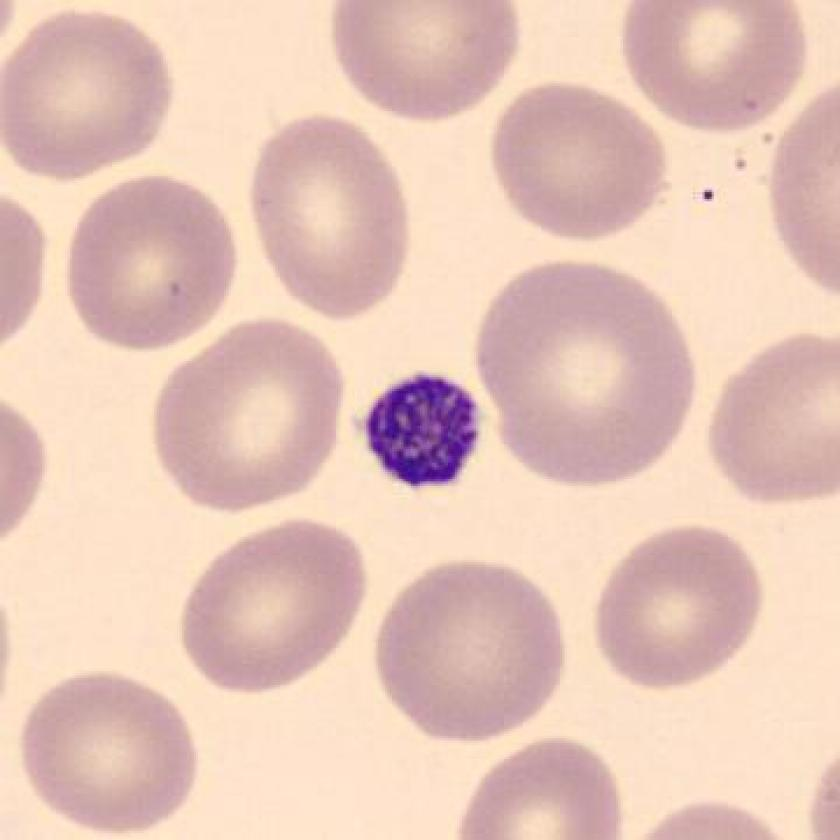platelets: (360, 367, 491, 501)
